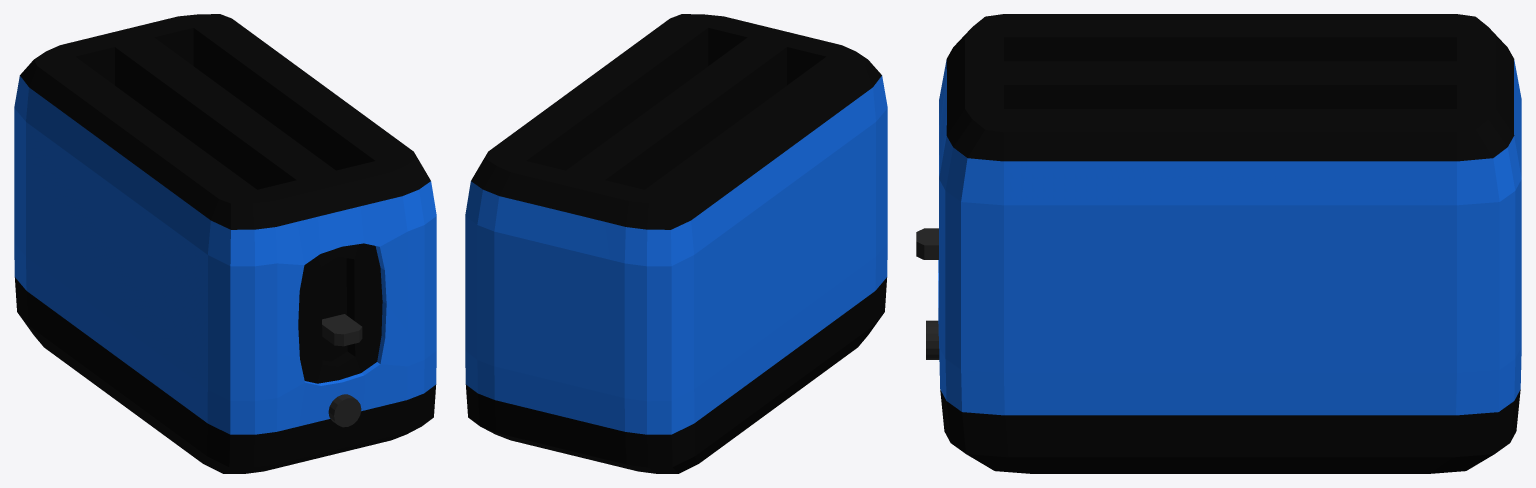
Rendered from Toaster_Blue.obj.
The picture shows the model from 3 angles, left to right: view 1: azimuth 30°, elevation 25°; view 2: azimuth 150°, elevation 25°; view 3: azimuth 270°, elevation 25°; orthographic projection. The views are drawn at different scales.
Parts seen in each view (by area): view 1: Cube; view 2: Cube; view 3: Cube.
Part boxes in pixels (x1,y1,x2,y2): Cube: [14, 14, 436, 473]; Cube: [465, 14, 887, 473]; Cube: [916, 14, 1521, 473].
Bounding box in the file's own units: 2 × 2.39 × 3.88.
